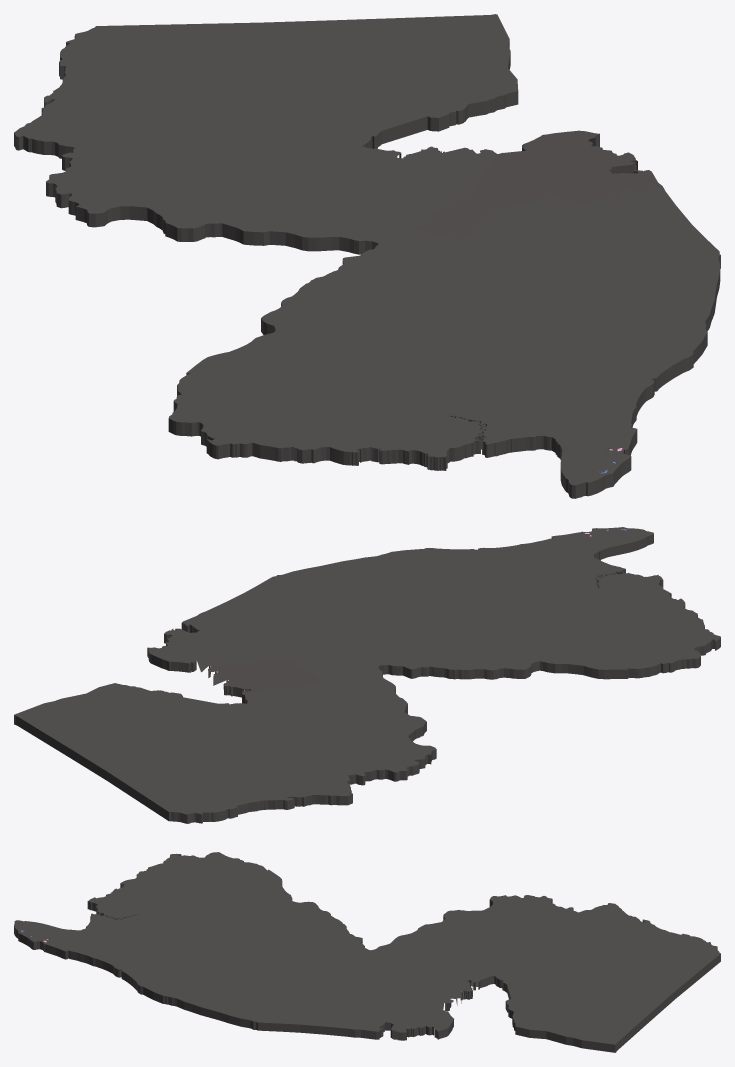
3 views of the same model, one above another, from view 1: azimuth 30°, elevation 25°; view 2: azimuth 150°, elevation 25°; view 3: azimuth 270°, elevation 25° (orthographic). The views are drawn at different scales.
Parts seen in each view (by area): view 1: Plane.007; view 2: Plane.007; view 3: Plane.007.
Boxes of the visible parts, x1,y1,x2,y2 form: Plane.007: [14, 14, 720, 498]; Plane.007: [14, 527, 720, 823]; Plane.007: [14, 852, 720, 1052].
Bounding box in the file's own units: 19.07 × 0.39 × 29.56.
2 materials, 1 textured.
